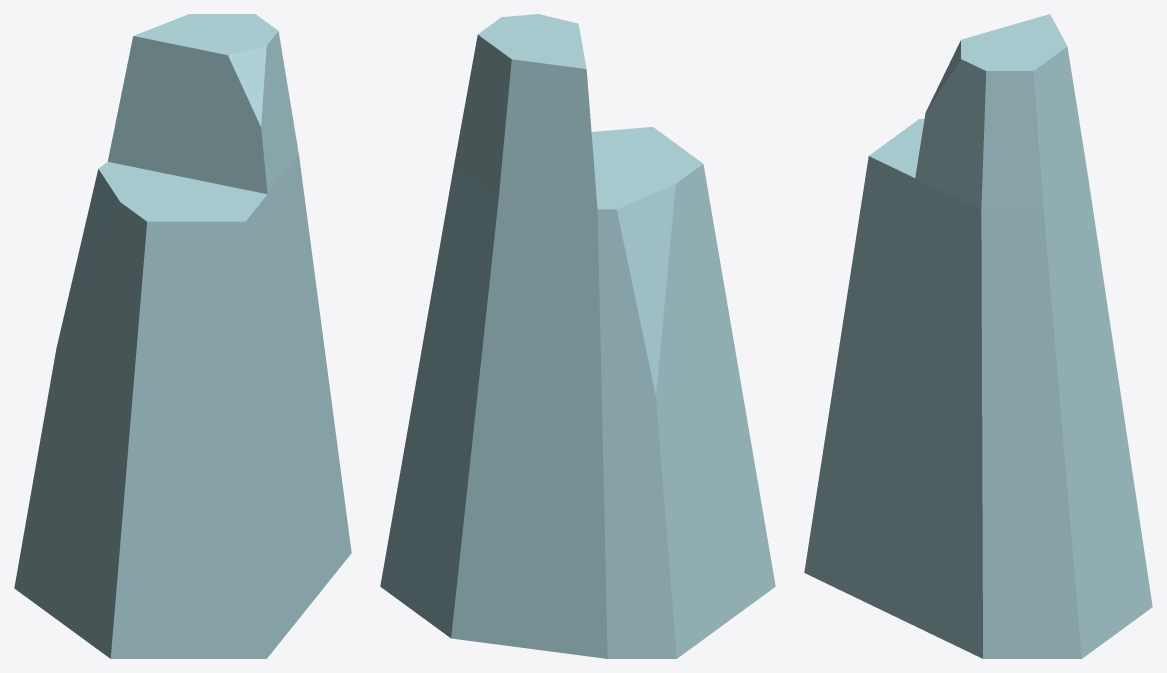
The model's file is stone_tallI.fbx.
The picture shows the model from 3 angles, left to right: view 1: azimuth 30°, elevation 25°; view 2: azimuth 150°, elevation 25°; view 3: azimuth 270°, elevation 25°; orthographic projection. The views are drawn at different scales.
Parts seen in each view (by area): view 1: stone_tallI; view 2: stone_tallI; view 3: stone_tallI.
Boxes of the visible parts, left/top/right/bottom form: stone_tallI: left=14, top=14, right=351, bottom=658; stone_tallI: left=380, top=14, right=775, bottom=658; stone_tallI: left=804, top=14, right=1152, bottom=658.
Size of the model in its own units: 4.56 by 8.12 by 4.64.
